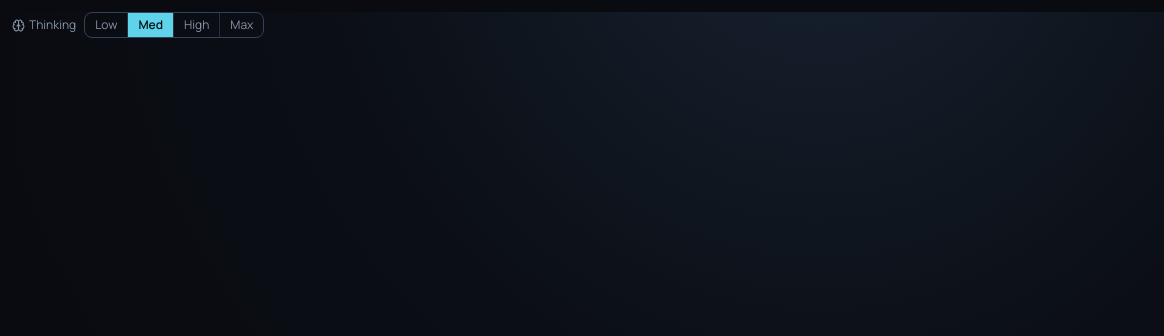
ThinkingEffort › choosing a level selects it for this conversation only
Click the radio button labelled "Low" at (106, 25), box [85, 13, 127, 37]
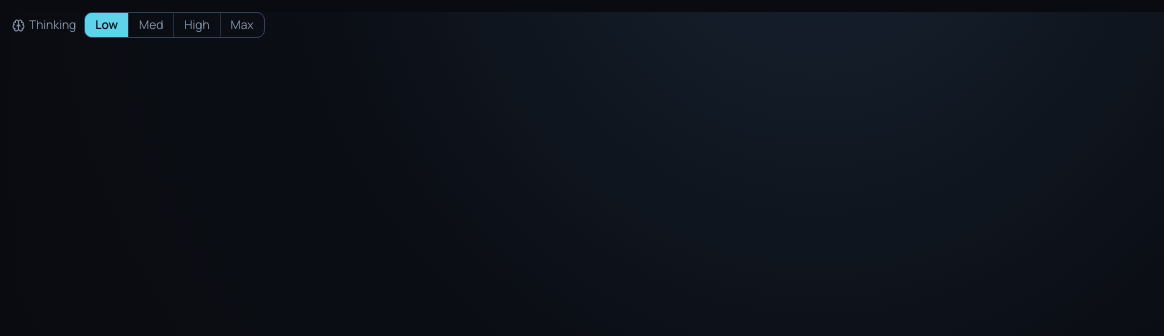
expect the radio button labelled "Low" is checked: met, box [85, 13, 128, 37]
